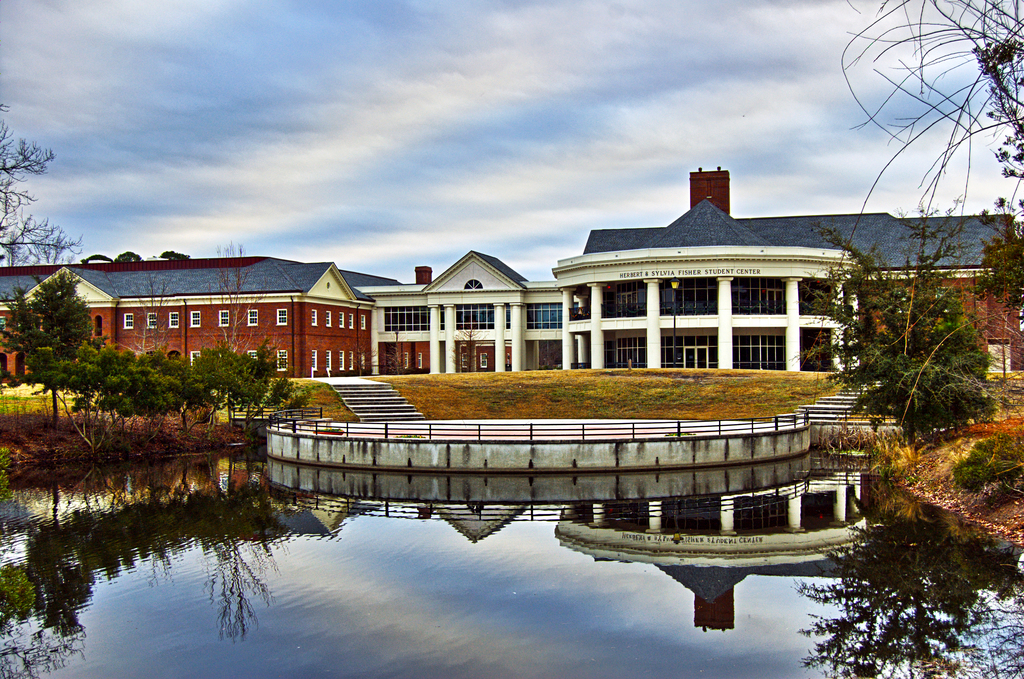Tree: (3, 281, 270, 420)
